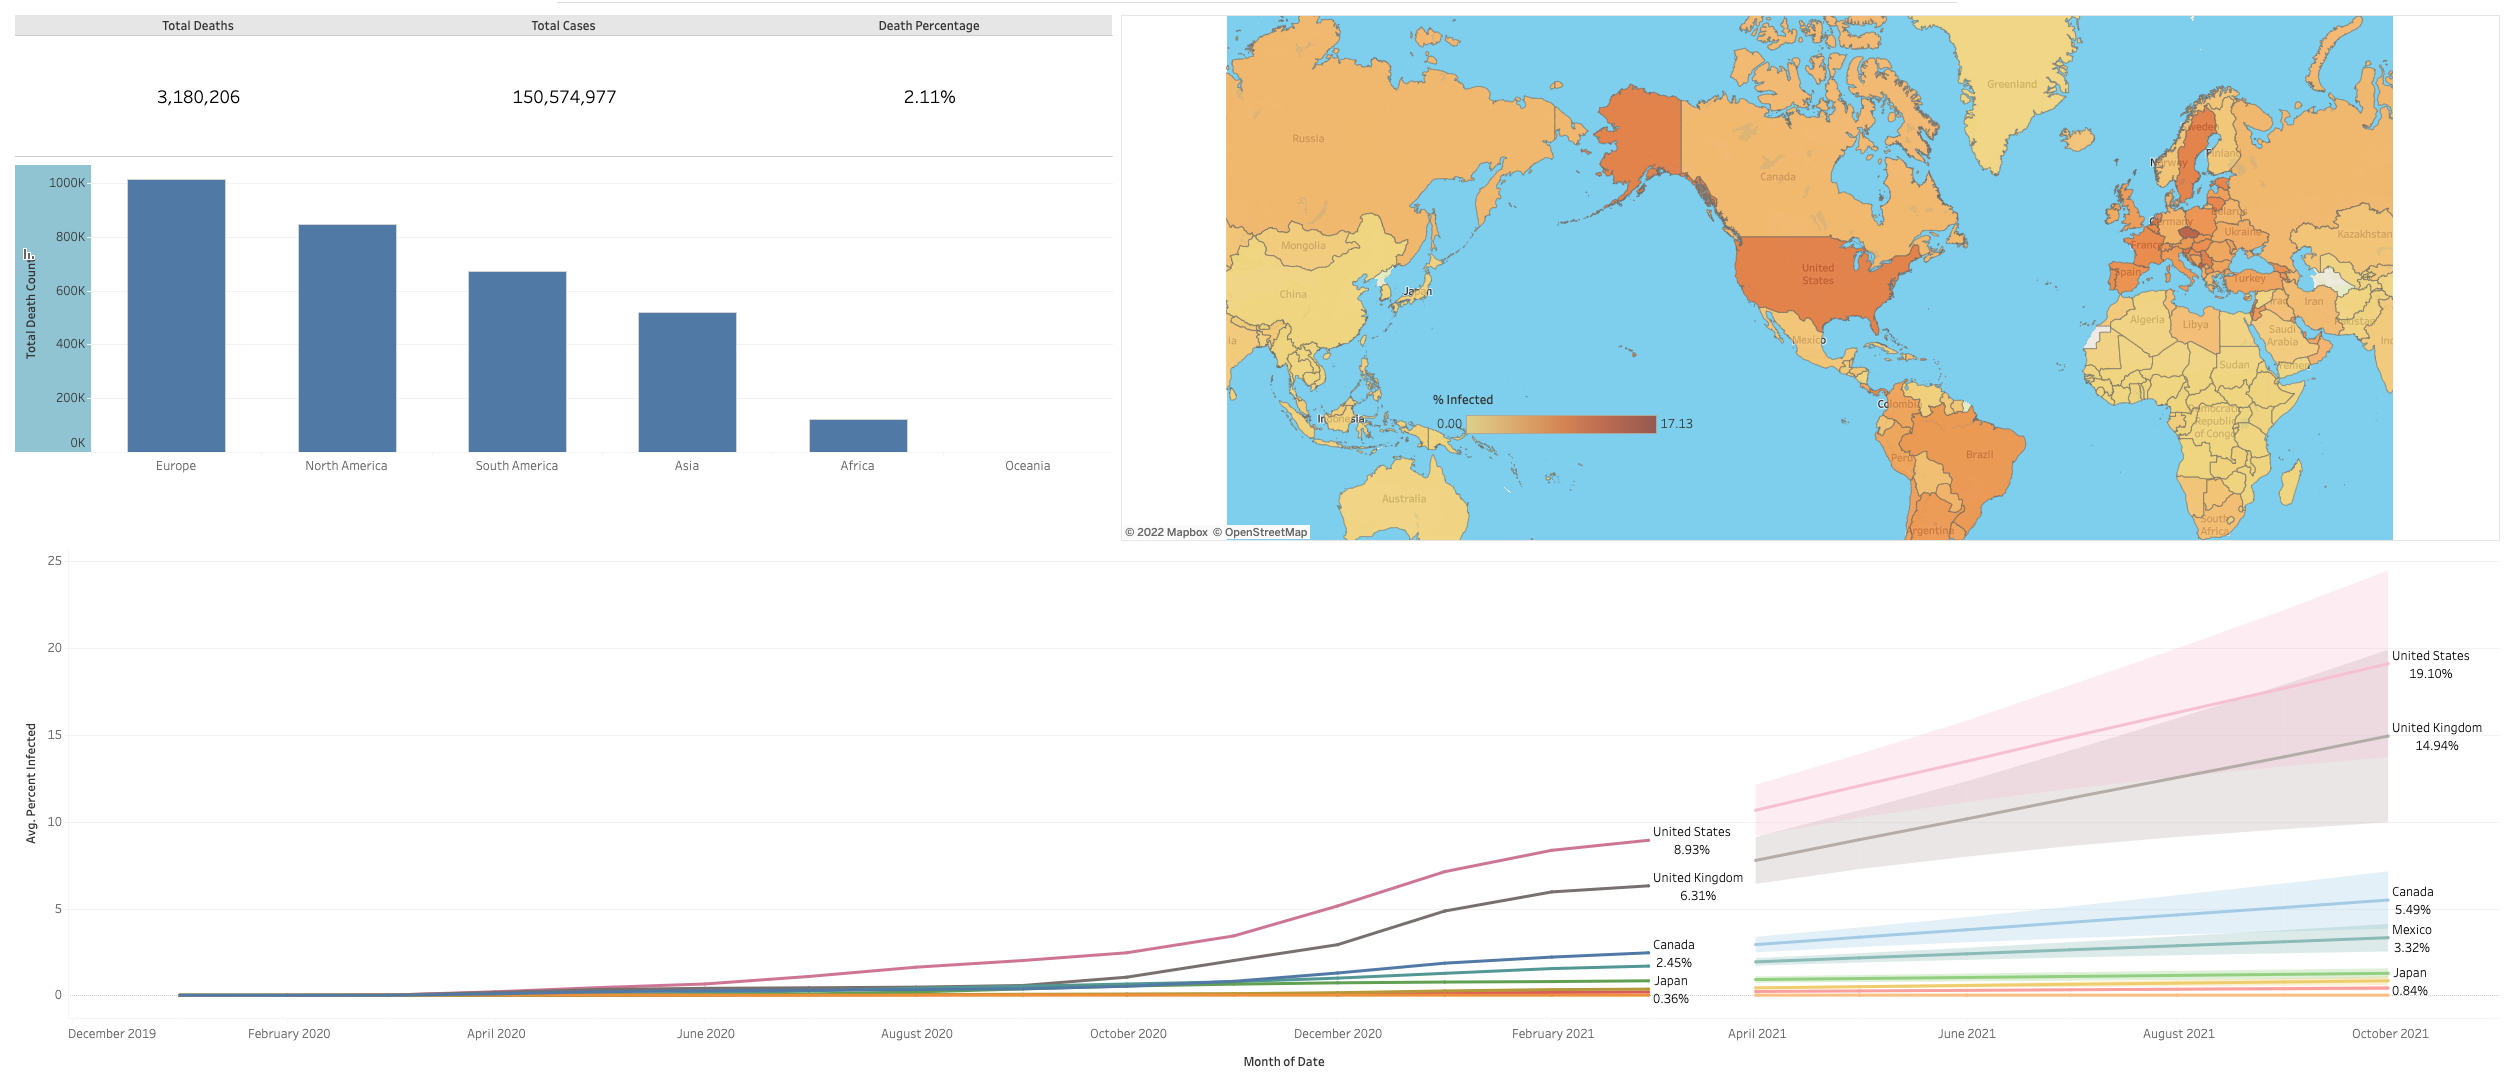

The page's visual inventory and layout, read from the dashboard file:
{"tool":"tableau","page":{"name":"Dashboard 1","canvas":[1000,1000],"units":"permille","ordinal":0},"visuals":[{"type":"worksheet","title":"Sheet 3","mark":"Automatic","box":[6,6.5,438.4,139]},{"type":"worksheet","title":"Sheet 5","mark":"Automatic","box":[444.4,6.5,549.5,493.1]},{"type":"worksheet","title":"Sheet 4","mark":"Automatic","rows":["total_death"],"cols":["location"],"box":[6,145.5,438.4,354.1]},{"type":"legend","title":"Sheet 5","param":"[federated.186fnr80m1q37f1glot4y03ihurg].[sum:HighestPercentInfected:qk]","box":[569.9,358.1,105.8,62.1]},{"type":"worksheet","title":"Sheet 6","mark":"Automatic","rows":["PercentInfected"],"cols":["date"],"box":[6,499.6,987.9,493.9]}]}

Visuals, with their boxes on the dashboard's canvas, which has no fixed pixel size, in thousandths of its width and height (x1, y1, x2, y2). These are canvas units, not pixel positions in the 2513x1078 screenshot, which may show the page scaled, cropped or inside an application window:
"Sheet 3" worksheet: <region>6, 6, 444, 146</region>
"Sheet 5" worksheet: <region>444, 6, 994, 500</region>
"Sheet 4" worksheet: <region>6, 146, 444, 500</region>
"Sheet 5" legend: <region>570, 358, 676, 420</region>
"Sheet 6" worksheet: <region>6, 500, 994, 994</region>
